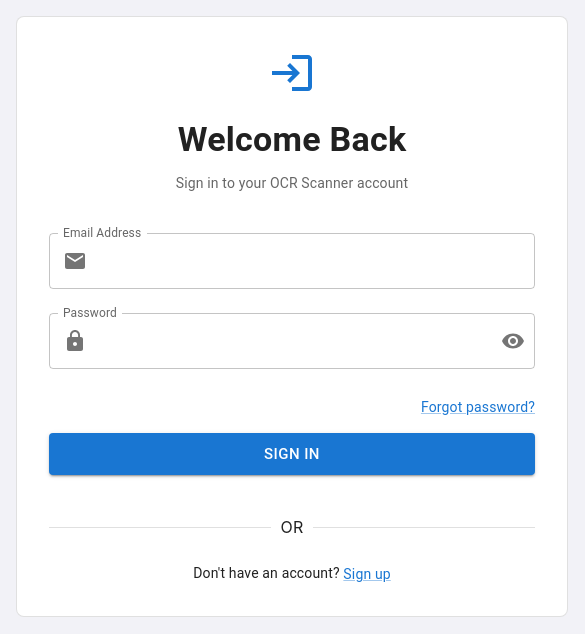
LoginForm › user input › toggles password visibility when the eye icon button is clicked
Click the button named "show password": click(513, 341) [493,321,533,361]
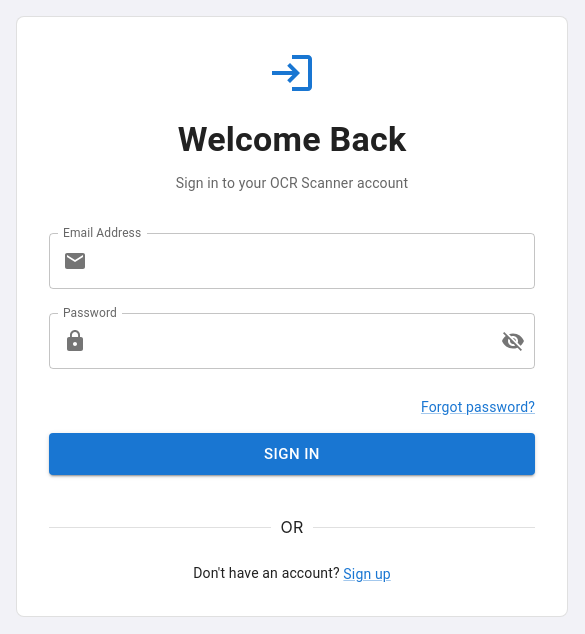
Expected: the button named "hide password" is shown, [493,321,533,361]
